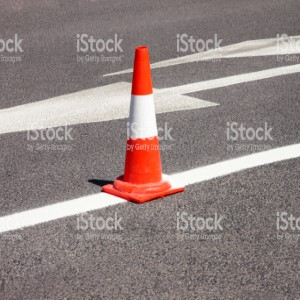traffic cone: (101, 46, 185, 204)
